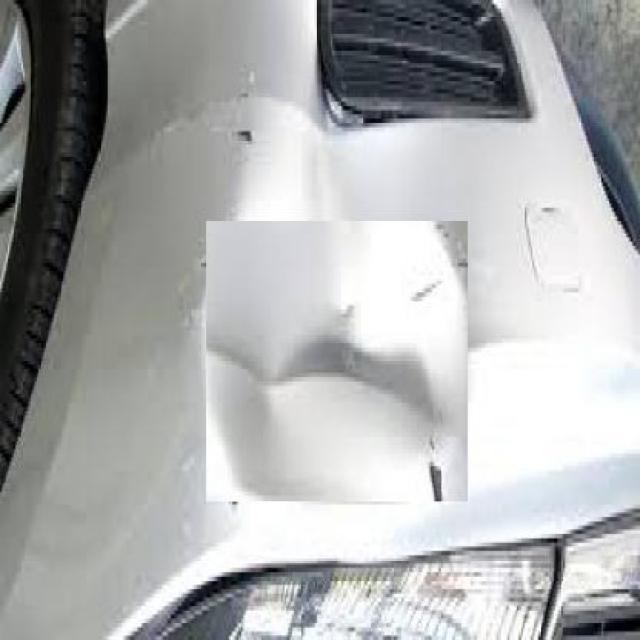dent: (248, 306, 438, 489)
